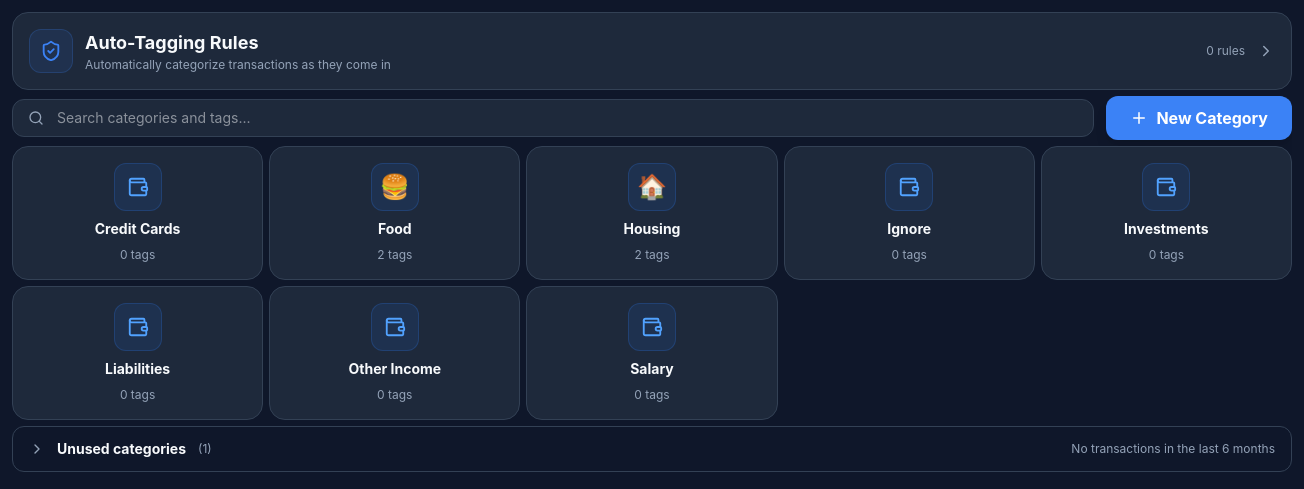
Categories › unused categories › auto-expands the section when a search matches an unused category
Expected: the button with test id "unused-categories-toggle" is shown, top-left (13, 427), bottom-right (1291, 471)
Type "Transport" into the field with placeholder "Search categories and tags..." at [553, 118], box top-left (12, 99), bottom-right (1094, 137)
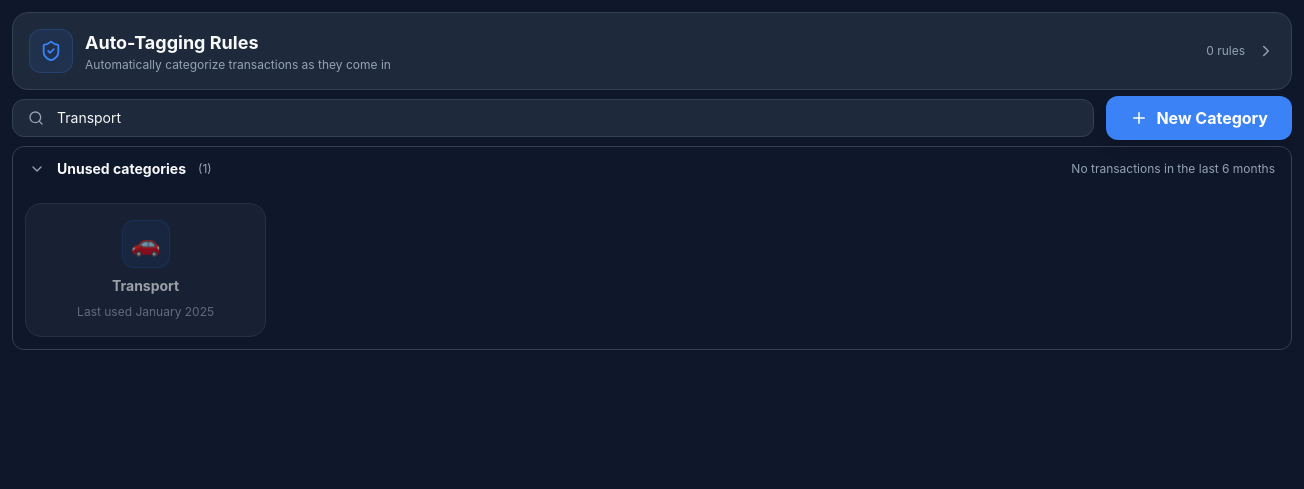
Now the button with test id "category-card-Transport" is shown, box top-left (25, 203), bottom-right (266, 337)
